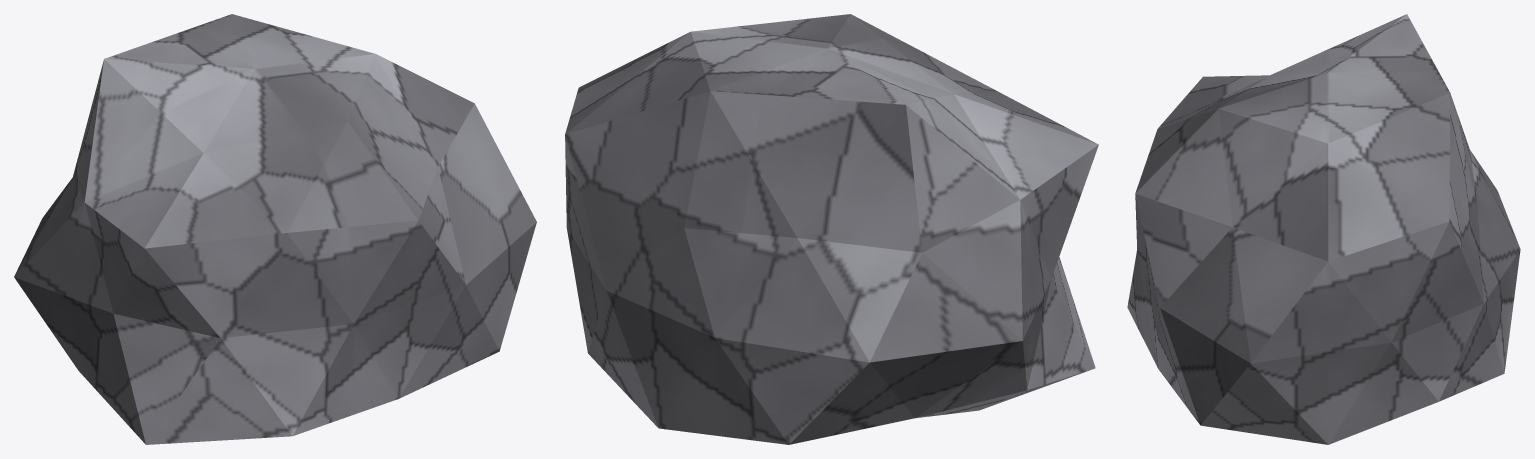
Rendered from Rock_S1.glb.
3 renders of one model, left to right at view 1: azimuth 30°, elevation 25°; view 2: azimuth 150°, elevation 25°; view 3: azimuth 270°, elevation 25°, orthographic. The views are drawn at different scales.
Visible parts, largest first — view 1: Rock_S1; view 2: Rock_S1; view 3: Rock_S1.
Boxes of the visible parts, x1,y1,x2,y2 form: Rock_S1: [14, 14, 536, 444]; Rock_S1: [565, 14, 1098, 444]; Rock_S1: [1127, 14, 1520, 444].
Bounding box in the file's own units: 0.6937 × 0.4344 × 0.5445.
1 material, 1 textured.
